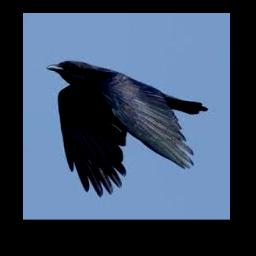Crow: (45, 61, 208, 197)
